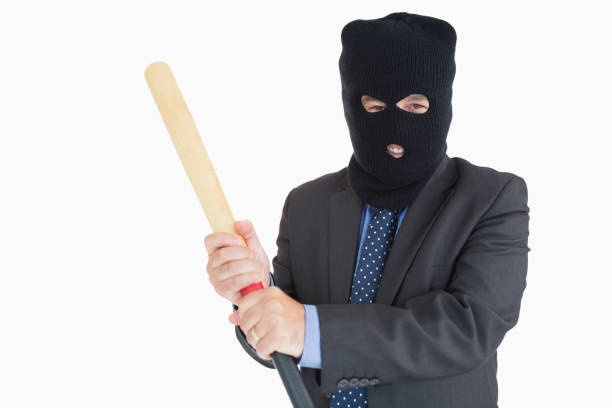bita: (144, 59, 308, 402)
